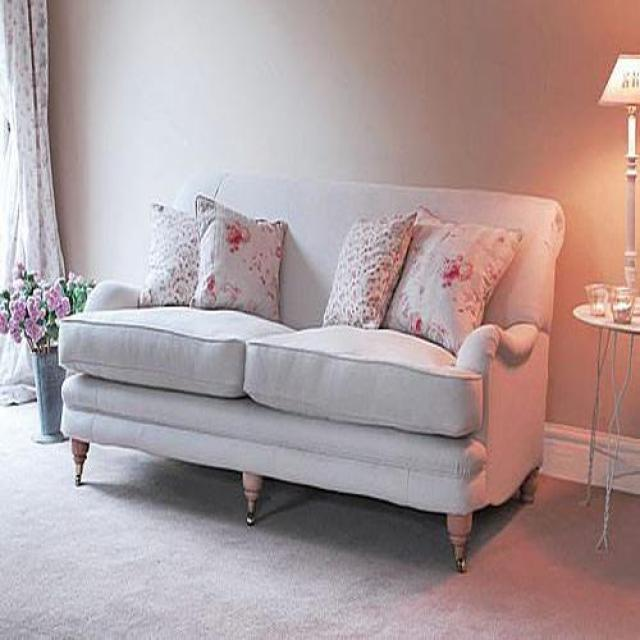sofa: (56, 175, 564, 571)
